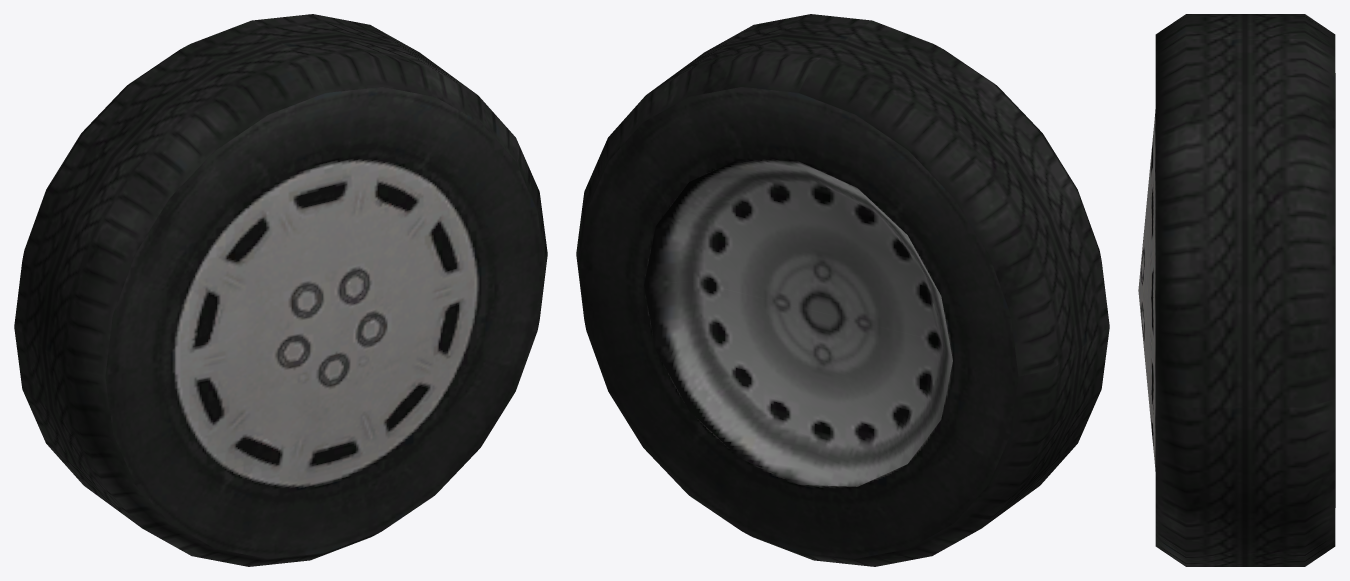
The model's file is V_A_2DrCoupe_Wheels_3_SkeletalMesh3_SkeletalMesh_4.psk.glb.
3 renders of one model, left to right at view 1: azimuth 30°, elevation 25°; view 2: azimuth 150°, elevation 25°; view 3: azimuth 270°, elevation 25°, orthographic.
Bounding box in the file's own units: 68.99 × 68.99 × 24.51.
Materials: 1 (1 with a texture image).
